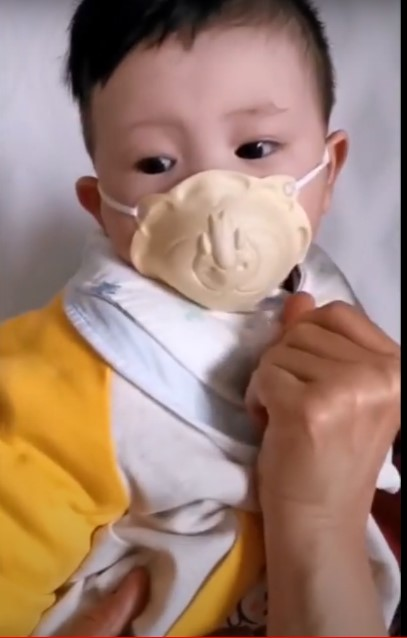face_with_mask: (76, 10, 350, 311)
